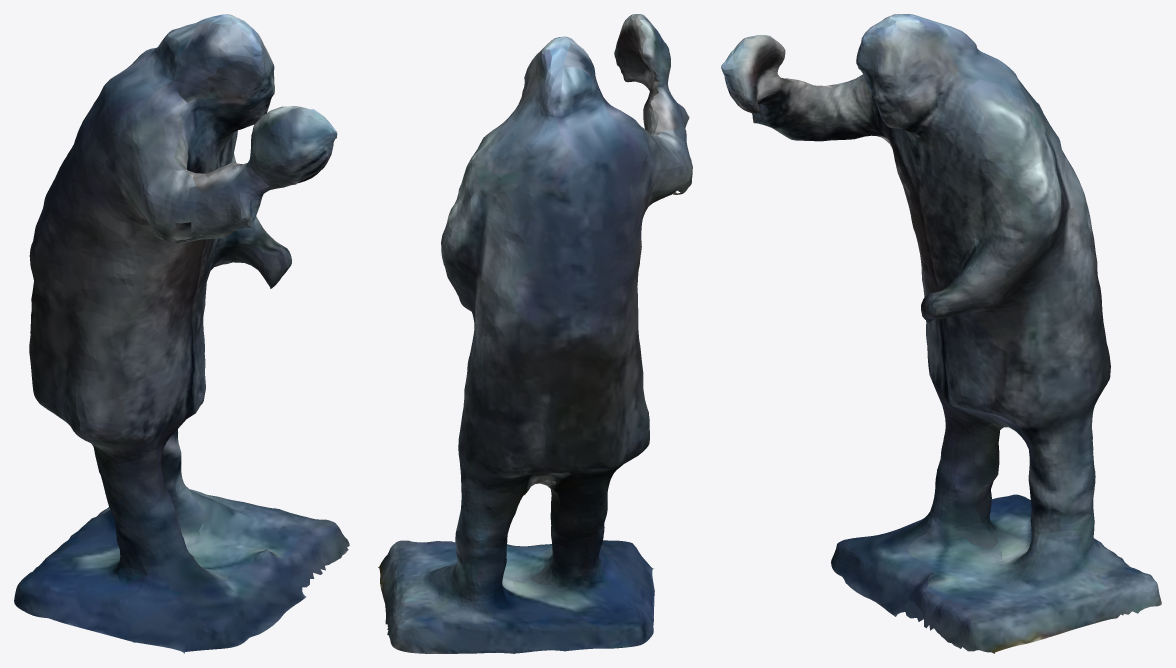
The model's file is man.glb.
3 renders of one model, left to right at view 1: azimuth 30°, elevation 25°; view 2: azimuth 150°, elevation 25°; view 3: azimuth 270°, elevation 25°, orthographic. The views are drawn at different scales.
Visible parts, largest first — view 1: man; view 2: man; view 3: man.
Boxes of the visible parts, left/top/right/bottom form: man: left=14, top=14, right=349, bottom=653; man: left=378, top=14, right=692, bottom=653; man: left=721, top=14, right=1161, bottom=653.
Bounding box in the file's own units: 1.11 × 2.03 × 1.43.
Materials: 1 (1 with a texture image).
